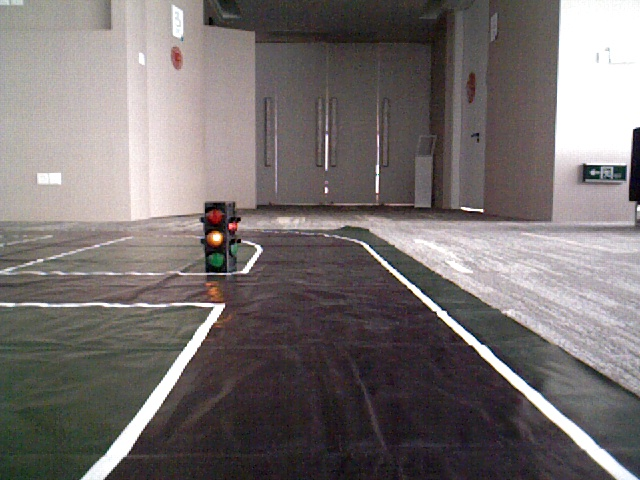yellow: (204, 204, 227, 267)
